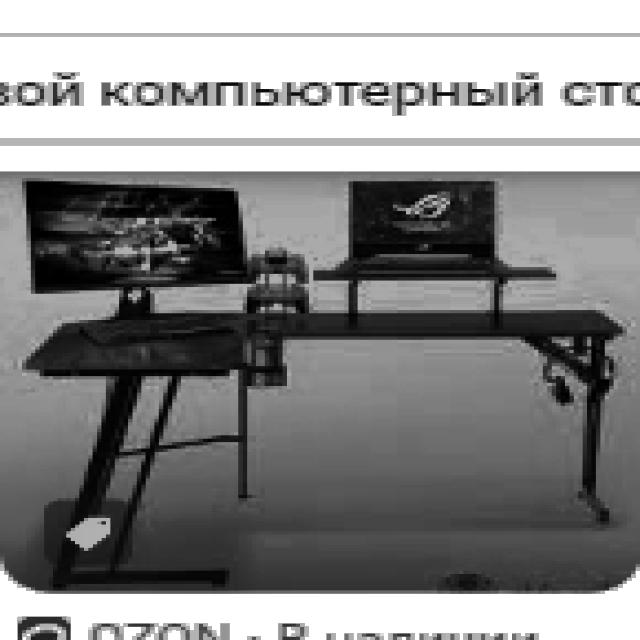table: (22, 307, 622, 584)
